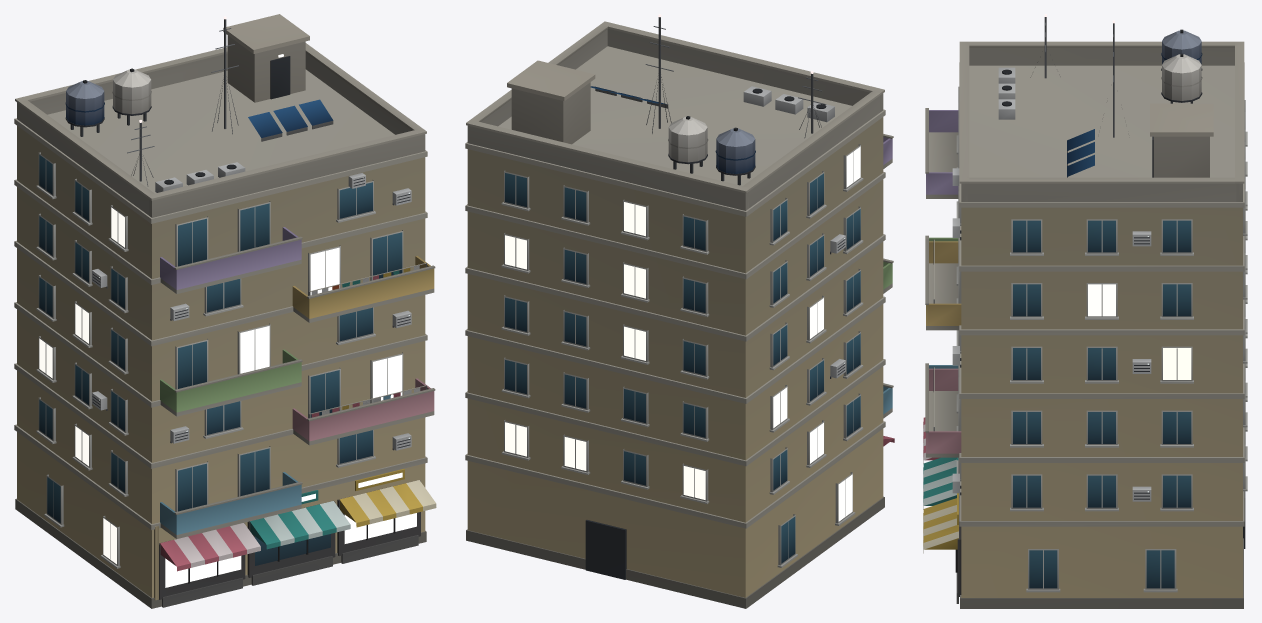
File: apartamentos_a.glb
3 renders of one model, left to right at view 1: azimuth 30°, elevation 25°; view 2: azimuth 150°, elevation 25°; view 3: azimuth 270°, elevation 25°, orthographic. The views are drawn at different scales.
Visible parts, largest first — view 1: apartamentos_a; view 2: apartamentos_a; view 3: apartamentos_a.
Boxes of the visible parts, x1,y1,x2,y2 form: apartamentos_a: [14, 14, 436, 608]; apartamentos_a: [465, 14, 894, 608]; apartamentos_a: [923, 14, 1247, 608].
Size of the model in its own units: 14.75 by 24.6 by 13.81.
